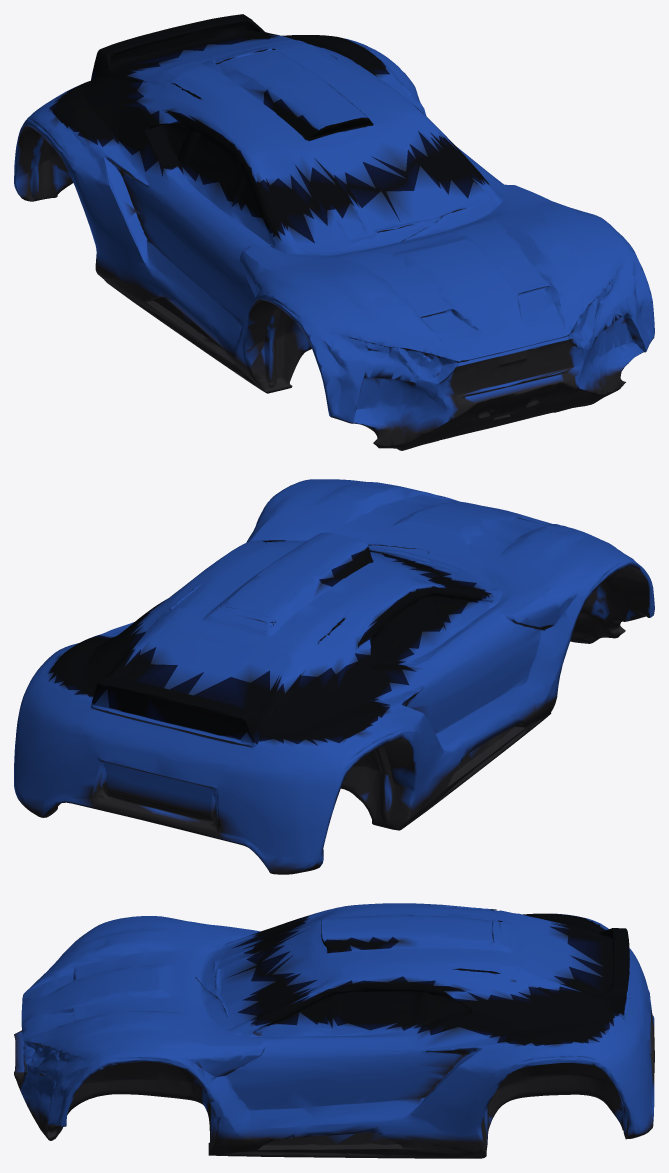
The model's file is volt_body.glb.
The picture shows the model from 3 angles, top to bottom: view 1: azimuth 30°, elevation 25°; view 2: azimuth 150°, elevation 25°; view 3: azimuth 270°, elevation 25°; orthographic projection. The views are drawn at different scales.
Visible parts, largest first — view 1: body; view 2: body; view 3: body.
Boxes of the visible parts, x1,y1,x2,y2 form: body: [14, 14, 654, 450]; body: [14, 479, 654, 874]; body: [14, 903, 654, 1158].
Size of the model in its own units: 2.41 by 1.34 by 4.45.
